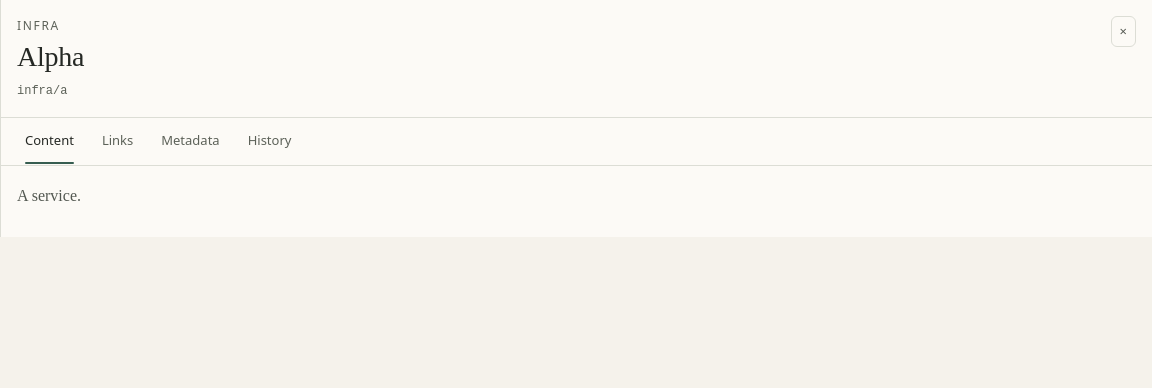
Test: the Inspector History tab › lists the assets of an expanded concept
Click the tab "History".
click(270, 142)  # box [236,118,303,165]
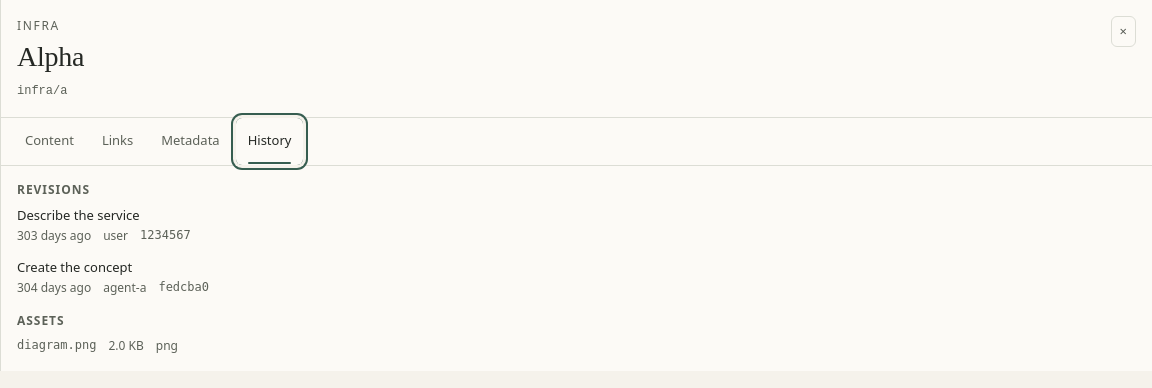
Expected: the text "diagram.png" is shown, [17,336,96,355]
Expected: the text "2.0 KB" is shown, [108,336,144,355]
Expected: the text "png" is shown, [156,336,178,355]
